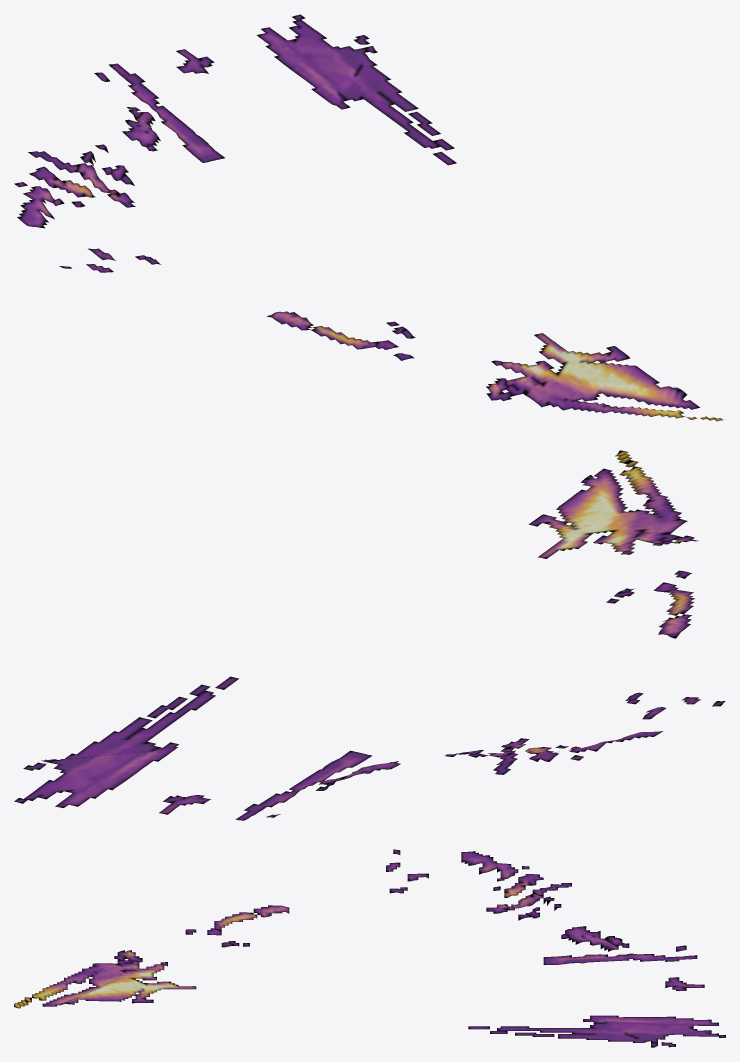
The model's file is heat_overlay_january.glb.
3 views of the same model, one above another, from view 1: azimuth 30°, elevation 25°; view 2: azimuth 150°, elevation 25°; view 3: azimuth 270°, elevation 25° (orthographic). The views are drawn at different scales.
Visible parts, largest first — view 1: overlay; view 2: overlay; view 3: overlay.
Boxes of the visible parts, x1,y1,x2,y2 form: overlay: [14, 14, 725, 421]; overlay: [14, 450, 725, 820]; overlay: [14, 849, 725, 1047].
Size of the model in its own units: 448 by 41.57 by 796.
